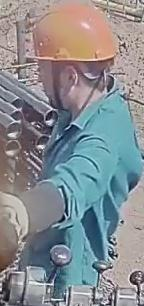gloves: (0, 190, 35, 273)
helmet: (25, 1, 117, 62)
vest: (21, 78, 143, 302)
